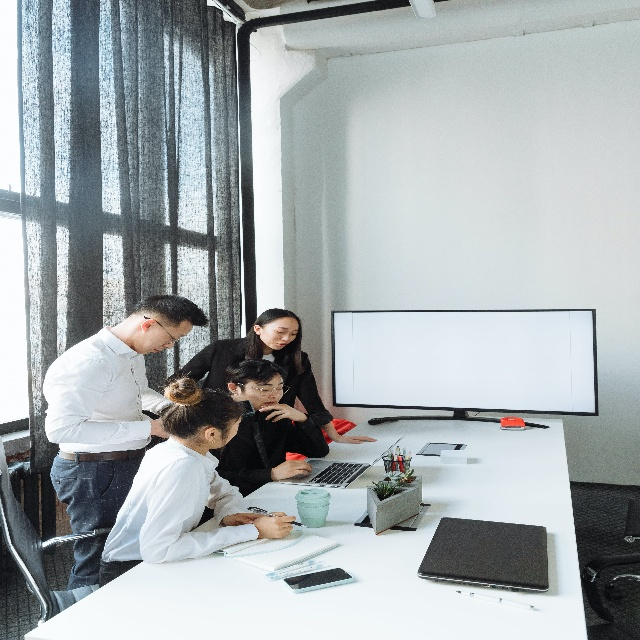Gafas: (144, 313, 183, 345), (234, 381, 291, 396)
Sin_guantes: (253, 508, 296, 538), (258, 396, 300, 424), (271, 457, 313, 482), (222, 512, 262, 528), (337, 432, 377, 444)
